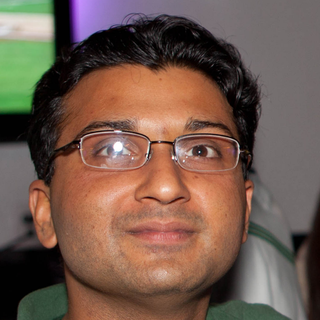eye: (92, 140, 143, 163), (181, 141, 225, 165)
